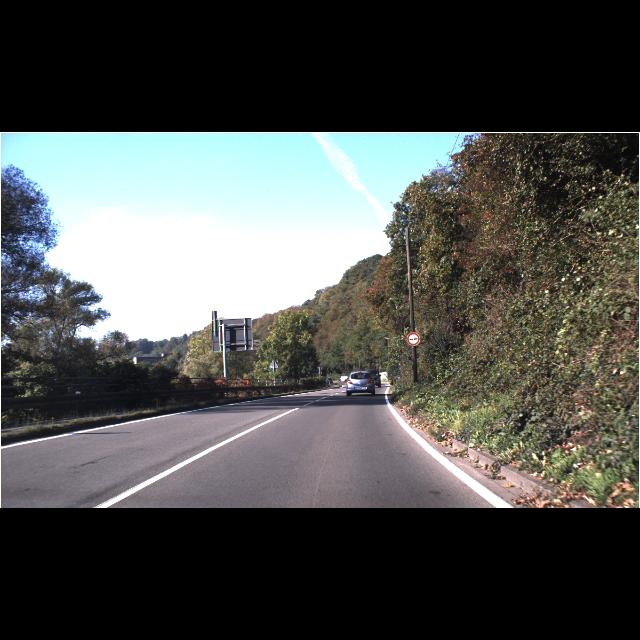prohibitory: (406, 332, 419, 346)
